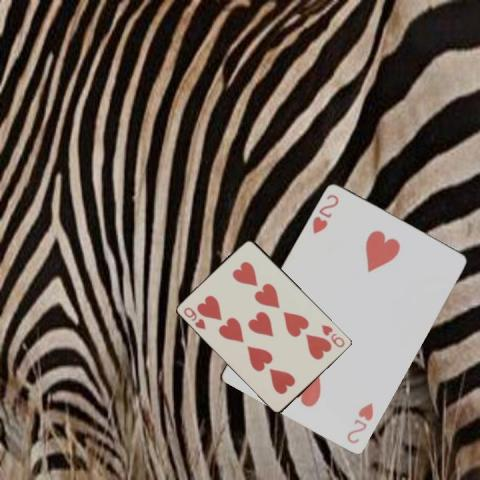2h: (343, 398, 375, 445), (308, 191, 340, 235)
9h: (318, 321, 346, 349), (182, 304, 208, 331)
